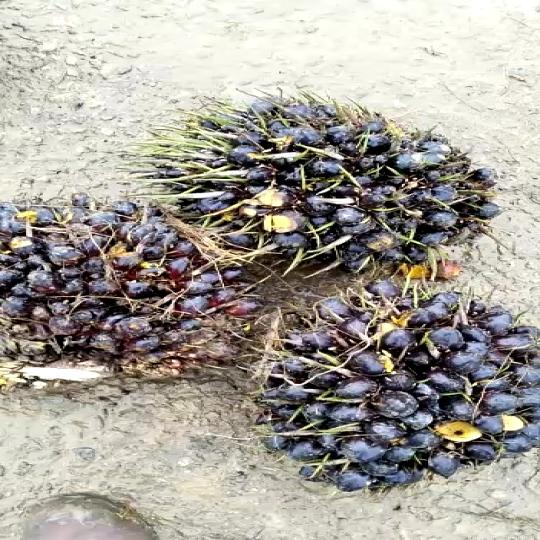mentah: (148, 90, 508, 265), (238, 280, 540, 481), (0, 171, 221, 419)
